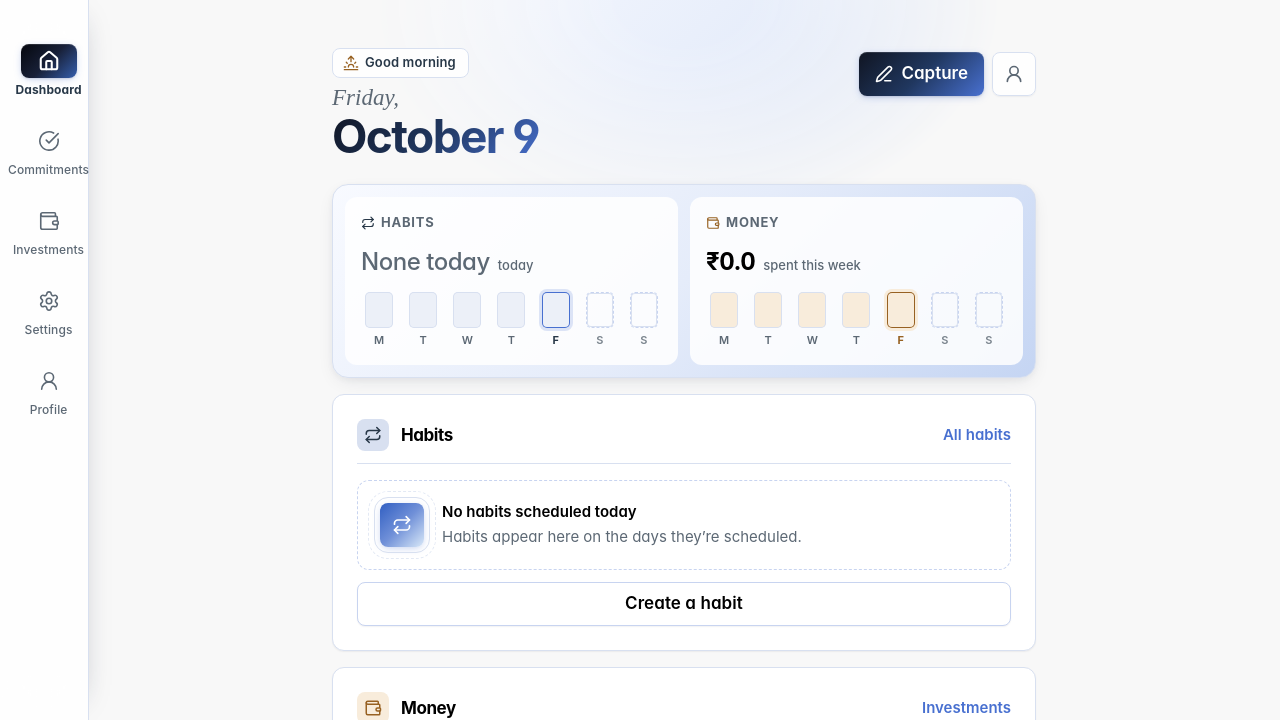
Test: Money across the app › captures an expense from quick capture
This screenshot has width=1280, height=720.
Click the button with aria-label "Capture a note, task, or expense" at point(922, 74), box [859,52,984,96]
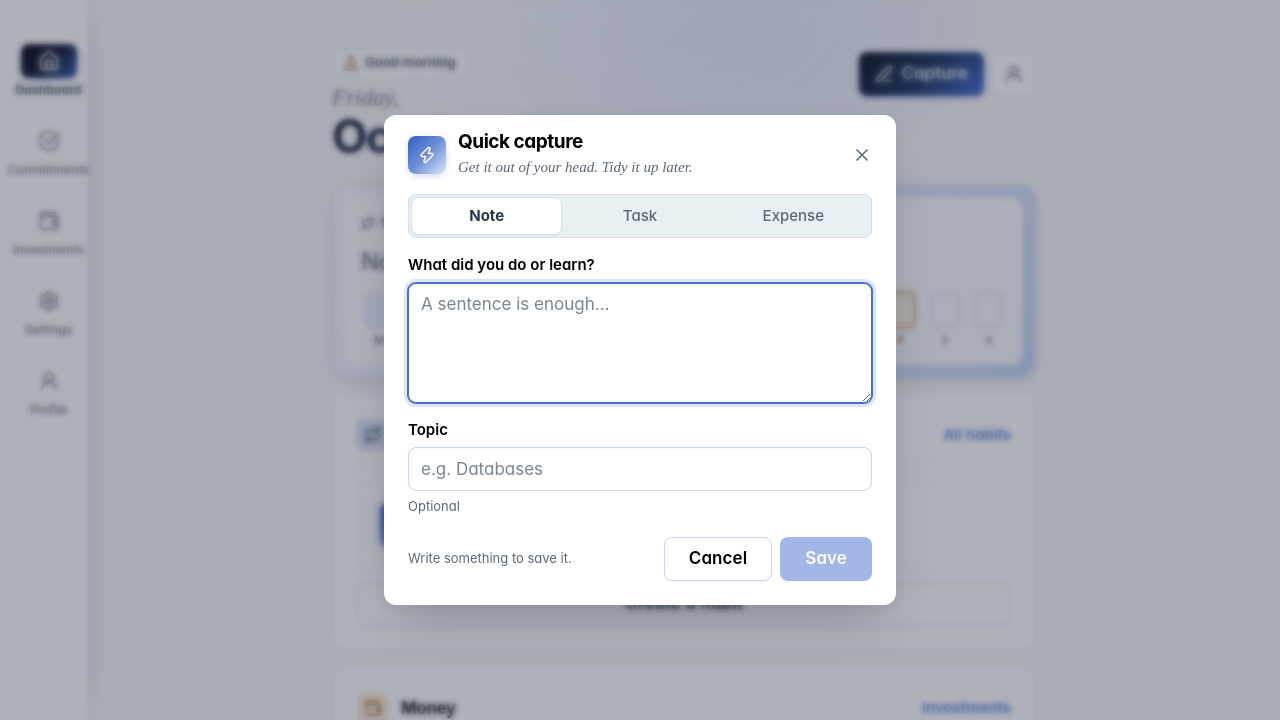
Click the button "Expense" at point(793, 216), box [718,197,869,235]
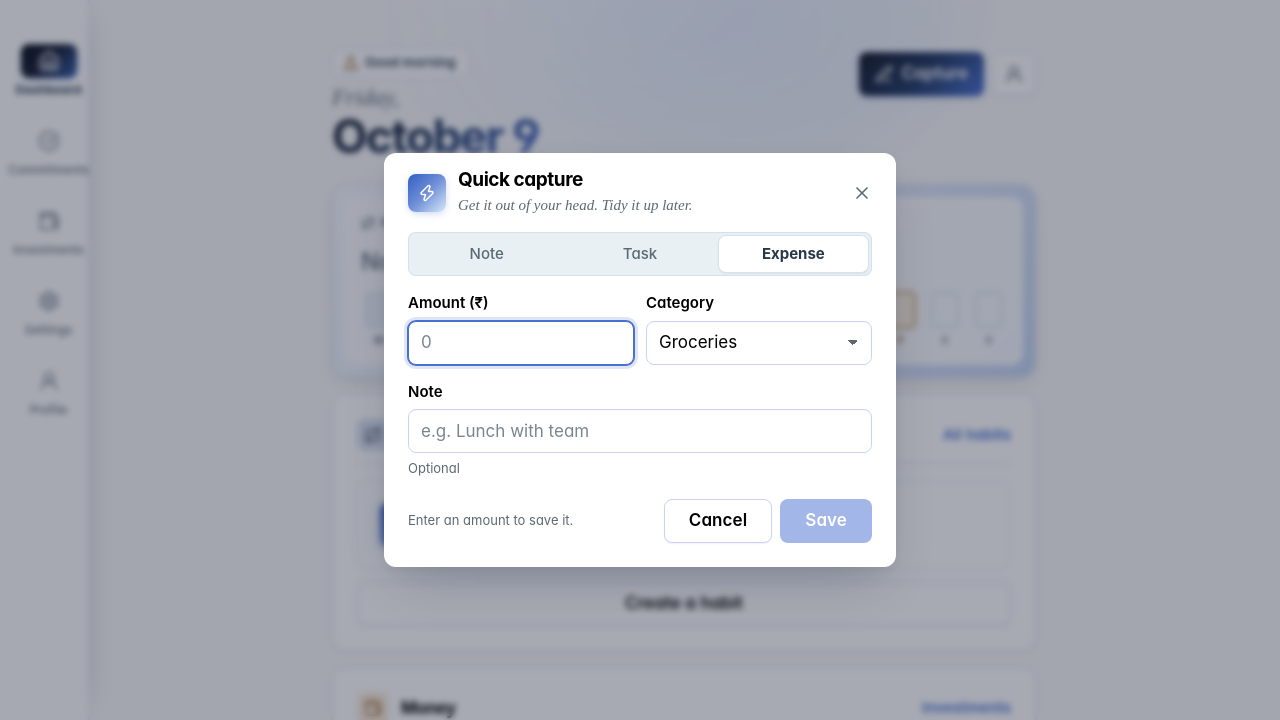
Type "240" into the field labelled "Amount (₹)" at point(521, 343), box [408,321,634,365]
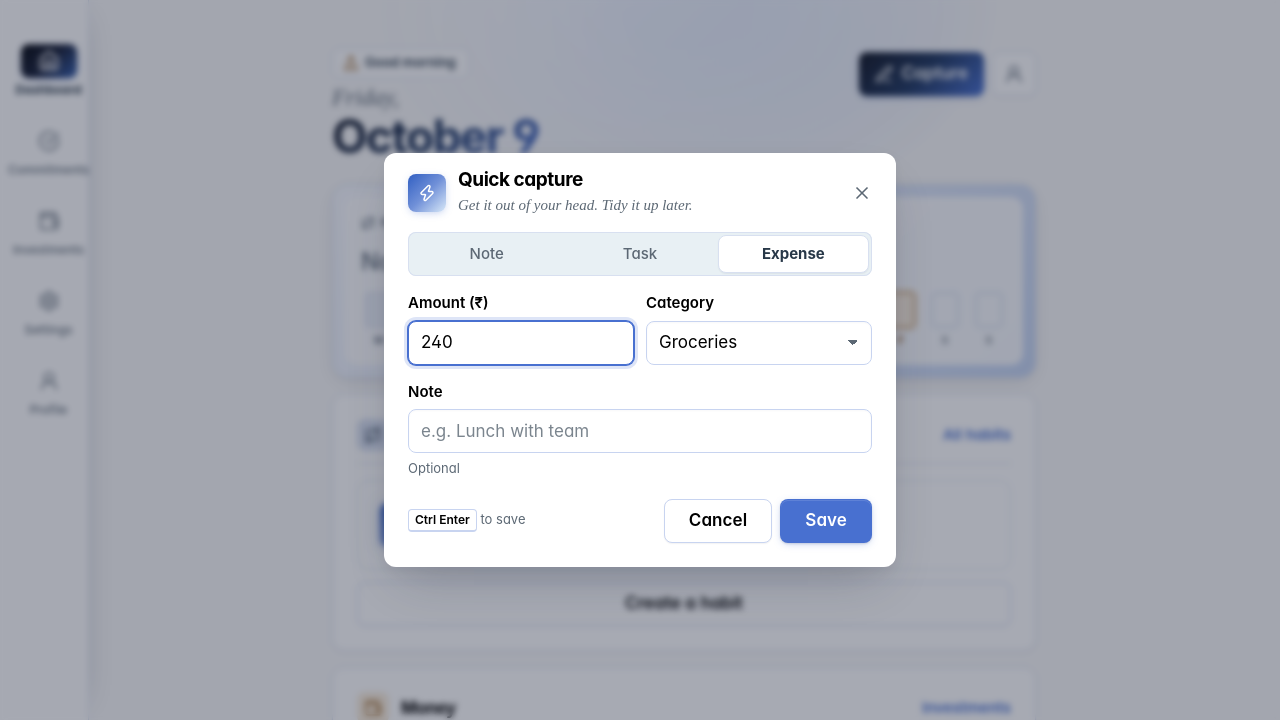
Select "Cafes" in the dropdown labelled "Category" at point(759, 343), box [646,321,872,365]
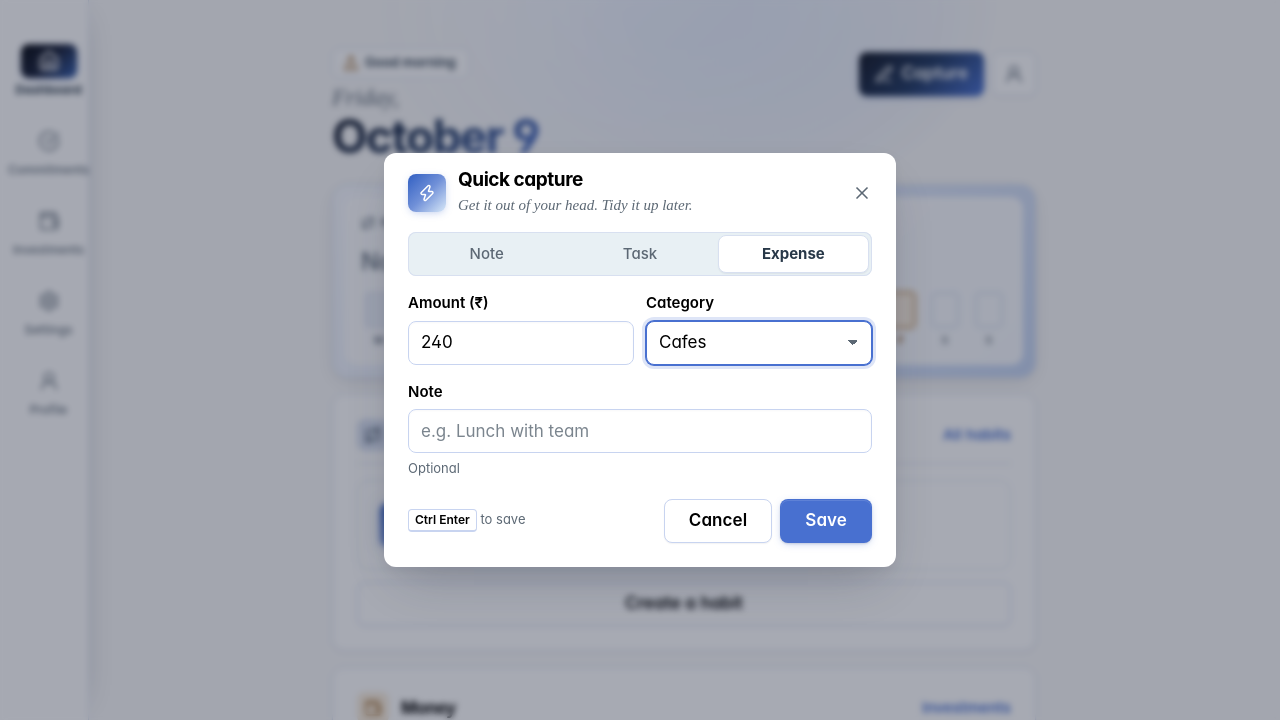
Click the button "Save" at point(826, 521), box [780,499,872,543]
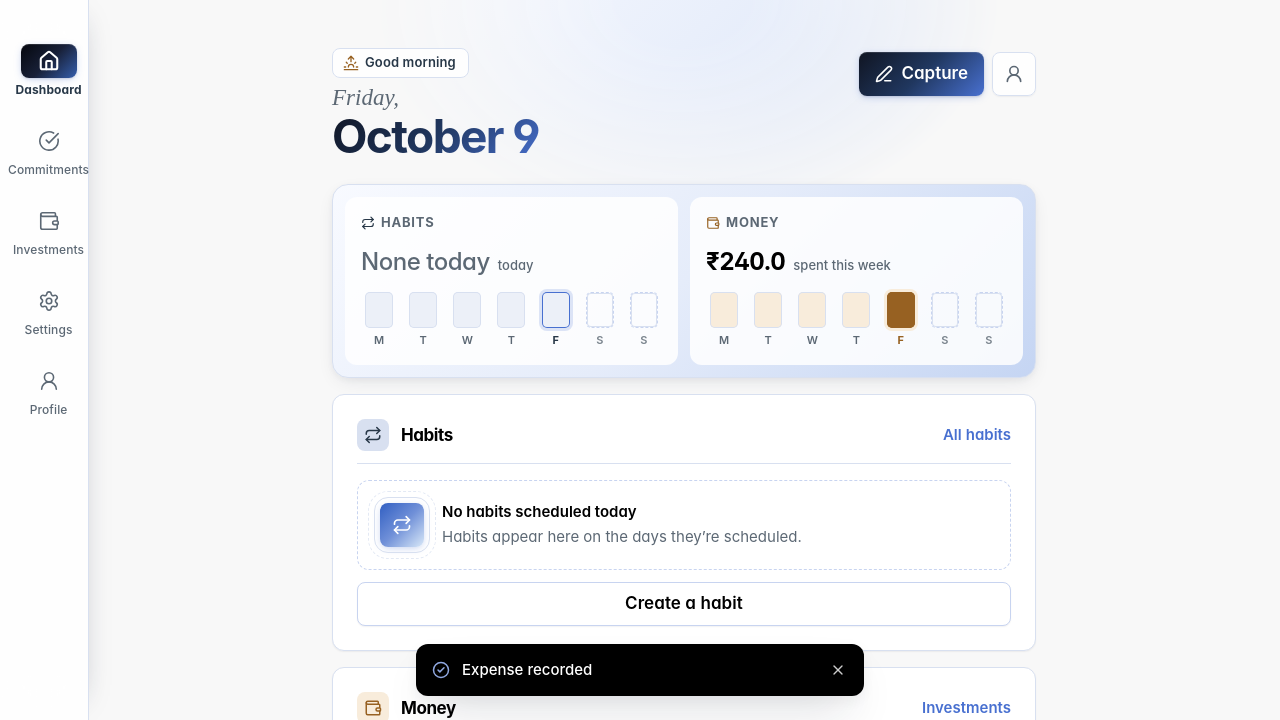
expect the text "Expense recorded" is shown: met, box [462,660,592,679]
